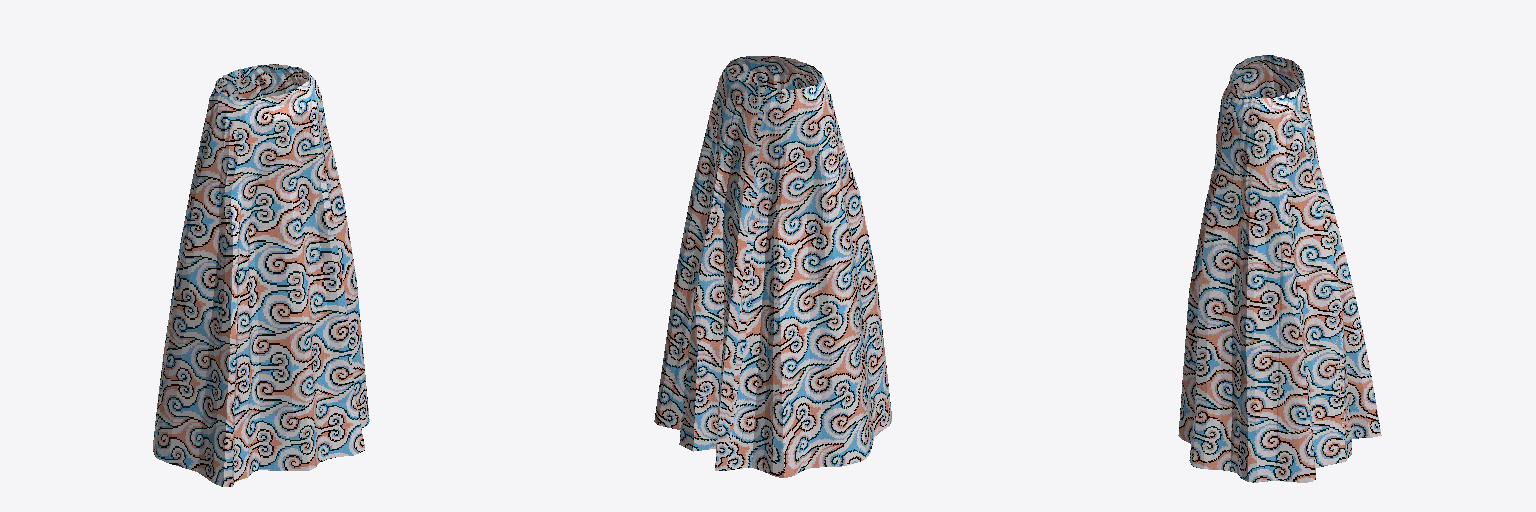
The picture shows the model from 3 angles: view 1: azimuth 30°, elevation 25°; view 2: azimuth 150°, elevation 25°; view 3: azimuth 270°, elevation 25°; orthographic projection.
Visible parts, largest first — view 1: lowertunic.002; view 2: lowertunic.002; view 3: lowertunic.002.
Part boxes in pixels (x1,y1,x2,y2): lowertunic.002: (153,64,369,486); lowertunic.002: (654,56,891,477); lowertunic.002: (1178,55,1381,482).
Bounding box in the file's own units: 0.3681 × 0.6381 × 0.3278.
1 materials, 1 textured.